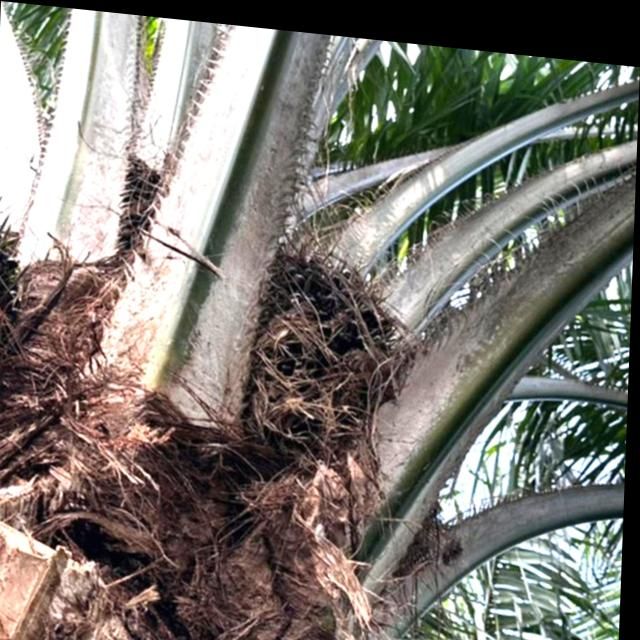unripe: (213, 213, 430, 456)
